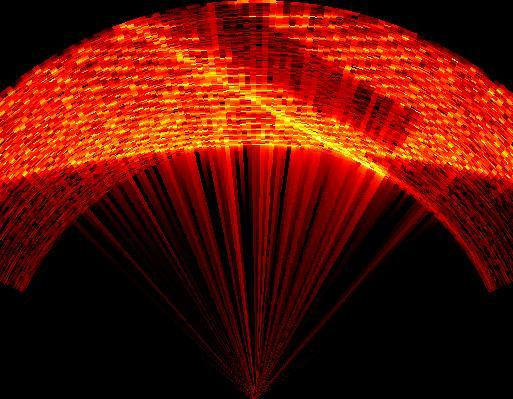pipe: (158, 2, 420, 157)
